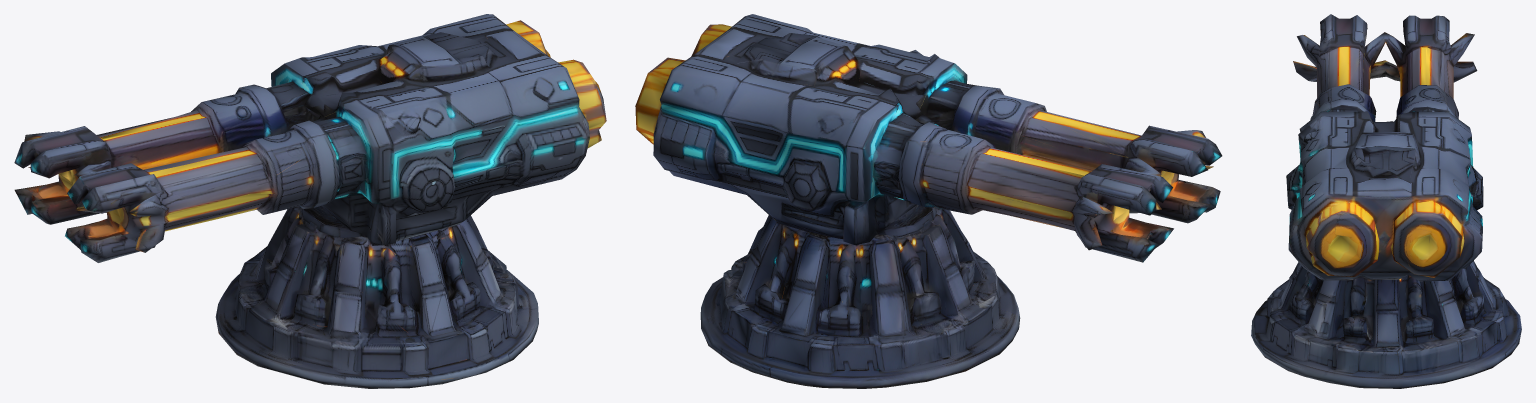
The model's file is tourelle.glb.
3 renders of one model, left to right at view 1: azimuth 30°, elevation 25°; view 2: azimuth 150°, elevation 25°; view 3: azimuth 270°, elevation 25°, orthographic. The views are drawn at different scales.
Visible parts, largest first — view 1: TourelleRotation, Tourelle; view 2: TourelleRotation, Tourelle; view 3: TourelleRotation, Tourelle.
Part boxes in pixels (x1=…): TourelleRotation: x1=14, y1=14, x2=606, y2=262; Tourelle: x1=215, y1=206, x2=538, y2=388; TourelleRotation: x1=635, y1=14, x2=1222, y2=262; Tourelle: x1=700, y1=205, x2=1020, y2=388; TourelleRotation: x1=1286, y1=14, x2=1483, y2=281; Tourelle: x1=1251, y1=261, x2=1521, y2=388.
Bounding box in the file's own units: 1.19 × 0.5641 × 0.652.
1 material, 1 textured.
